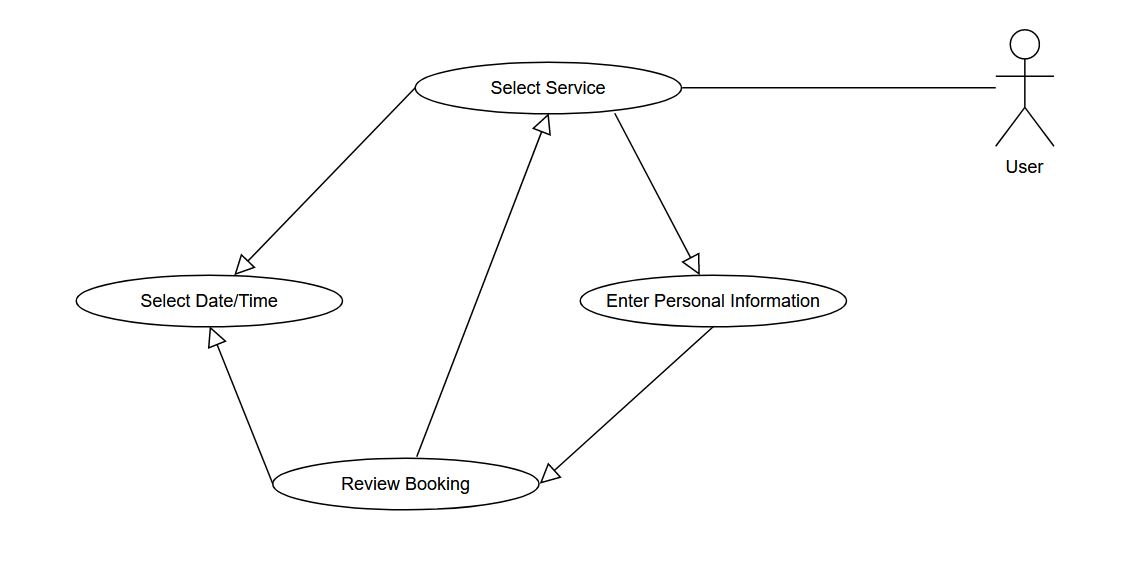actor: (992, 22, 1059, 151)
association: (682, 75, 999, 98)
generalization: (418, 112, 554, 455), (234, 85, 414, 272), (542, 325, 713, 484), (614, 111, 703, 274), (208, 325, 271, 483)
text: (603, 288, 823, 310), (138, 286, 284, 314), (339, 467, 476, 496), (488, 77, 610, 96), (1002, 158, 1048, 177)
use_case: (415, 58, 683, 117), (578, 273, 847, 329), (75, 273, 343, 329), (271, 457, 541, 512)
